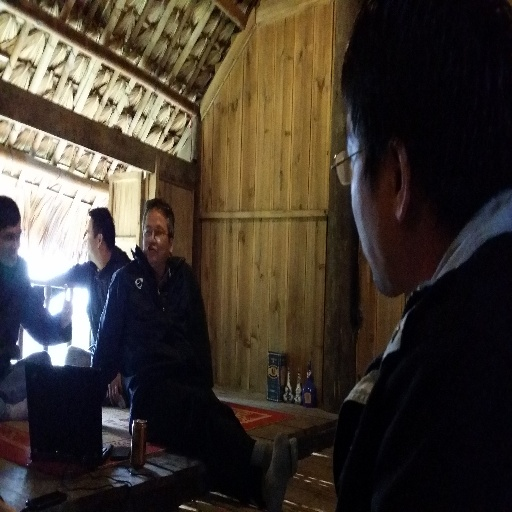hand: (106, 370, 124, 407), (60, 297, 71, 328)
